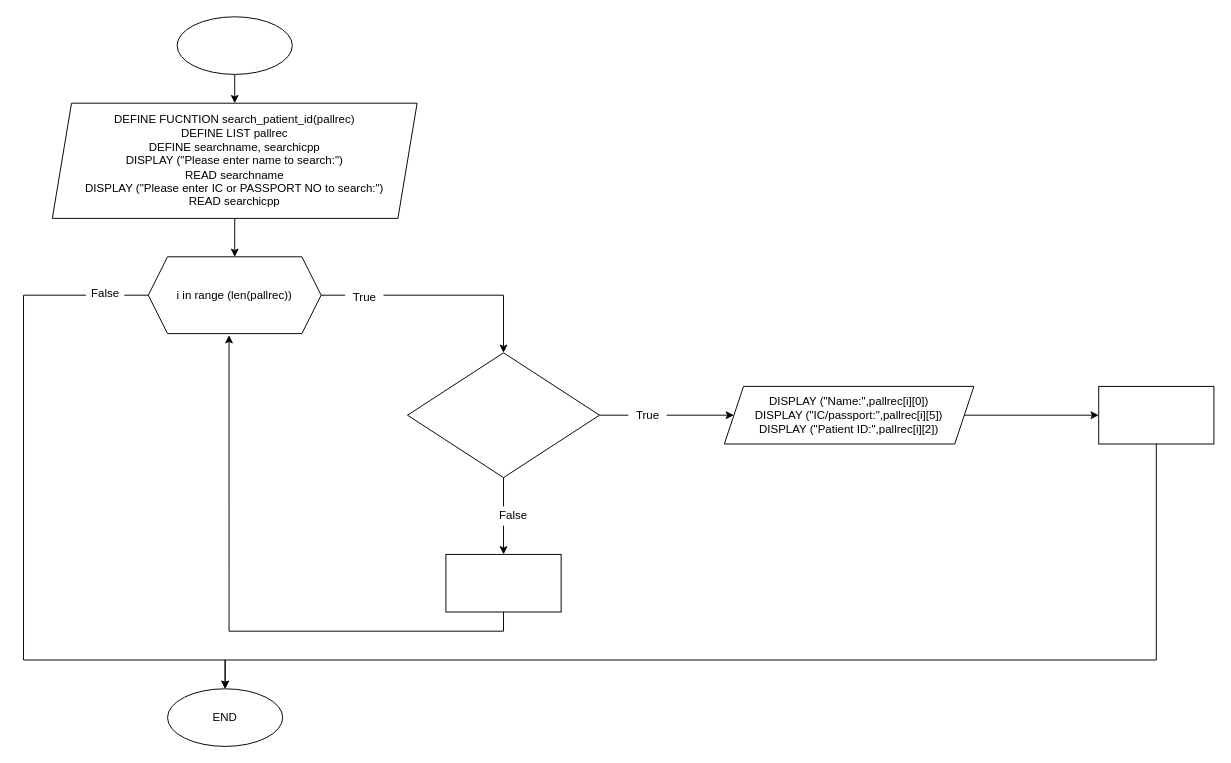
This 1231x763 diagram has some shape labels left out. The centre of each missing label's shape, as x and y in pixels:
BEGIN: the point at 234,45
break: the point at 1156,414
NEXT i: the point at 503,582
searchname in pallrec[i][0] AND searchicpp in pallrec[i][5]: the point at 503,415
